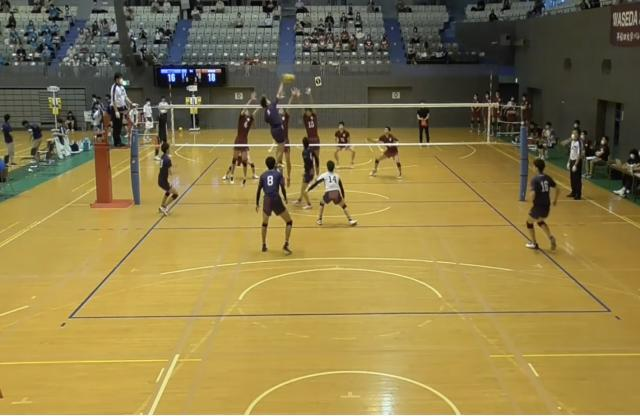spike: (258, 70, 298, 176)
